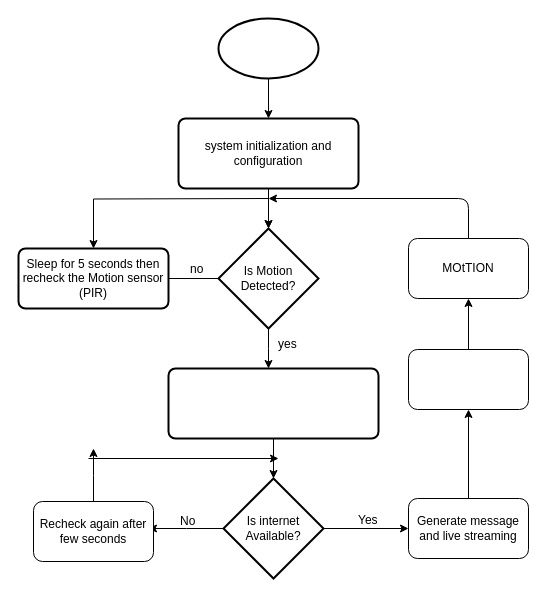
Some shapes in this 546 by 596 pixel diagram are drawn without their labels. Here are the shapes that lost their labels. From the top down, the box of each, then its label:
(217, 17, 319, 79): START
(408, 348, 528, 410): EMAIL ALERT(SMTP)
(167, 367, 379, 439): Trigger The camera to capture image and Live Streaming
